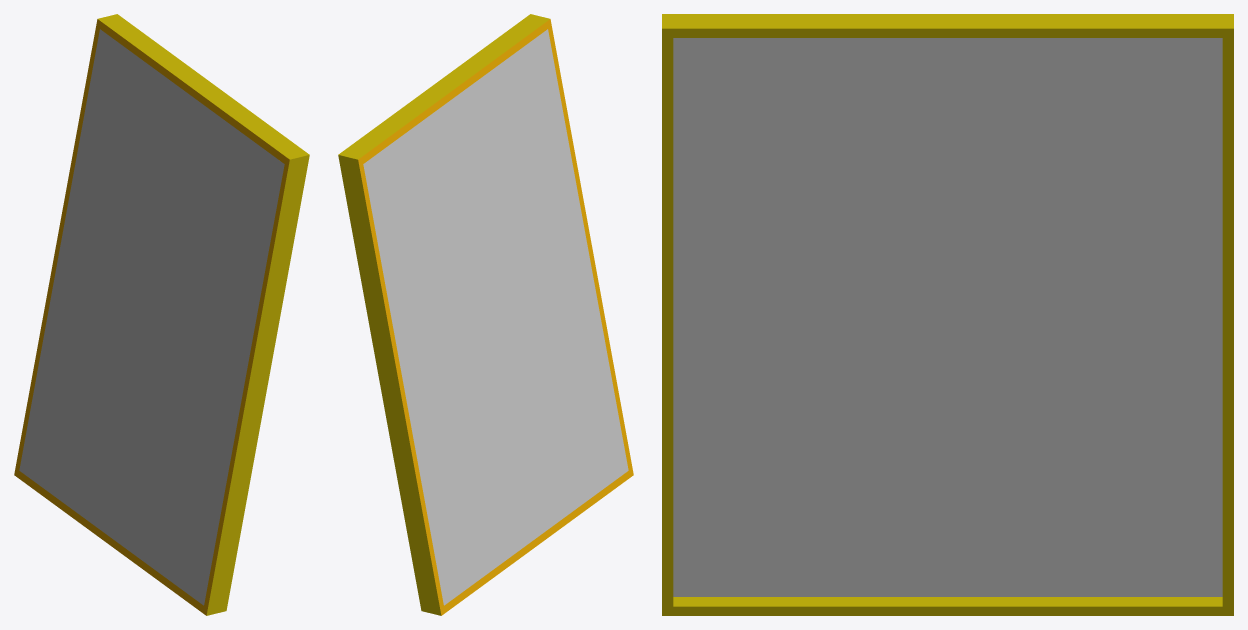
Rendered from window_slanted_4x1x5.dae.
The picture shows the model from 3 angles, left to right: view 1: azimuth 30°, elevation 25°; view 2: azimuth 150°, elevation 25°; view 3: azimuth 270°, elevation 25°; orthographic projection. The views are drawn at different scales.
Visible parts, largest first — view 1: Cube; view 2: Cube; view 3: Cube.
Part boxes in pixels (left/top/right/bottom): Cube: left=14, top=14, right=309, bottom=615; Cube: left=338, top=14, right=633, bottom=615; Cube: left=662, top=14, right=1233, bottom=615.
Size of the model in its own units: 0.31 by 1 by 1.25.
